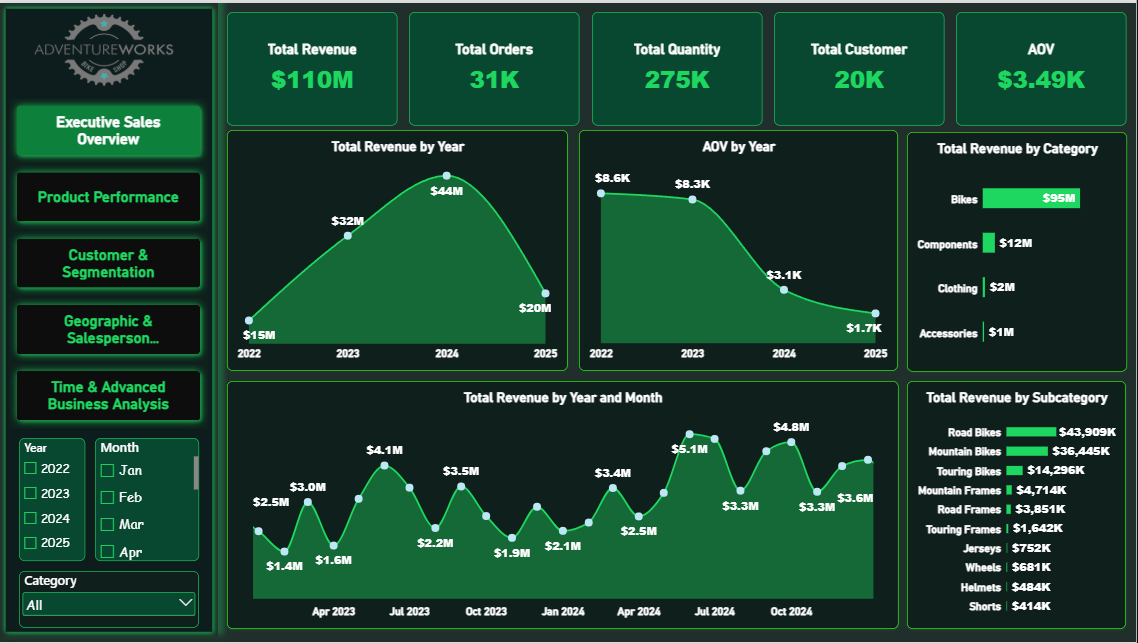

Layout of this report page (visuals, bound fields, positions):
{"tool":"powerbi","page":{"name":" Executive Sales Overview ","canvas":[1920,1080],"ordinal":0},"visuals":[{"type":"shape","box":[0,0,368,1072],"z":0},{"type":"pageNavigator","box":[16,160,336,560],"z":1000},{"type":"cardVisual","fields":{"Data":["CALC ( Executive Sales Overview).Total Revenue"]},"box":[384,15.5,288,192],"z":2000},{"type":"cardVisual","fields":{"Data":["CALC ( Executive Sales Overview).Total Orders"]},"box":[691.9,15.5,288,192],"z":3000},{"type":"cardVisual","fields":{"Data":["CALC ( Executive Sales Overview).Total Quantity"]},"box":[999.8,15.5,288,192],"z":4000},{"type":"cardVisual","fields":{"Data":["CALC ( Executive Sales Overview).Total Customer"]},"box":[1307.6,15.5,288,192],"z":5000},{"type":"cardVisual","fields":{"Data":["CALC ( Executive Sales Overview).AOV"]},"box":[1615.5,15.5,288,192],"z":6000},{"type":"image","box":[32,16,288,128],"z":7000},{"type":"slicer","fields":{"Values":["Calender.Year"]},"box":[32,736,112,208],"z":8000},{"type":"slicer","fields":{"Values":["Calender.Month"]},"box":[160,736,176,208],"z":9000},{"type":"lineChart","fields":{"Y":["CALC ( Executive Sales Overview).Total Revenue"],"Category":["Calender.Year","Calender.Month"]},"box":[383.7,214.6,576.3,407.3],"z":11000},{"type":"lineChart","fields":{"Y":["CALC ( Executive Sales Overview).AOV"],"Category":["Calender.Year"]},"box":[978.6,214.6,539.2,407.3],"z":12000},{"type":"lineChart","fields":{"Y":["CALC ( Executive Sales Overview).Total Revenue"],"Category":["Calender.Date.Variation.Date Hierarchy.Year","Calender.Date.Variation.Date Hierarchy.Month"]},"box":[384,638.1,1134.5,418.9],"z":13000},{"type":"clusteredBarChart","title":"Total Revenue by Category","fields":{"Y":["CALC ( Executive Sales Overview).Total Revenue"],"Category":["Production ProductCategory.Name"]},"box":[1532.1,217.2,372.4,405.3],"z":14000},{"type":"clusteredBarChart","title":"Total Revenue by Subcategory","fields":{"Y":["CALC ( Executive Sales Overview).Total Revenue"],"Category":["Production ProductSubcategory.Name"]},"box":[1532.1,638.1,370.4,418.9],"z":15000},{"type":"slicer","fields":{"Values":["Production ProductCategory.Name"]},"box":[32,960,304,96],"z":15001}]}

Visuals, with their boxes in screenshot pixels (x1, y1, x2, y2), scaled from the page's 1920x1080 canvas onto the 1138x643 screenshot:
shape: rect(0, 0, 218, 638)
pageNavigator: rect(9, 95, 209, 429)
cardVisual - CALC ( Executive Sales Overview).Total Revenue: rect(228, 9, 398, 124)
cardVisual - CALC ( Executive Sales Overview).Total Orders: rect(410, 9, 581, 124)
cardVisual - CALC ( Executive Sales Overview).Total Quantity: rect(593, 9, 763, 124)
cardVisual - CALC ( Executive Sales Overview).Total Customer: rect(775, 9, 946, 124)
cardVisual - CALC ( Executive Sales Overview).AOV: rect(958, 9, 1128, 124)
image: rect(19, 10, 190, 86)
slicer - Calender.Year: rect(19, 438, 85, 562)
slicer - Calender.Month: rect(95, 438, 199, 562)
lineChart - CALC ( Executive Sales Overview).Total Revenue x Calender.Year: rect(227, 128, 569, 370)
lineChart - CALC ( Executive Sales Overview).AOV x Calender.Year: rect(580, 128, 900, 370)
lineChart - CALC ( Executive Sales Overview).Total Revenue x Calender.Date.Variation.Date Hierarchy.Year: rect(228, 380, 900, 629)
"Total Revenue by Category" clusteredBarChart: rect(908, 129, 1129, 371)
"Total Revenue by Subcategory" clusteredBarChart: rect(908, 380, 1128, 629)
slicer - Production ProductCategory.Name: rect(19, 572, 199, 629)
